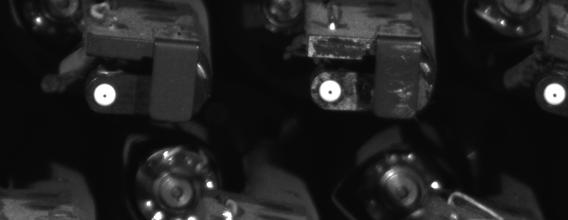fiber: (89, 81, 121, 108), (316, 79, 345, 106), (540, 79, 568, 106)
